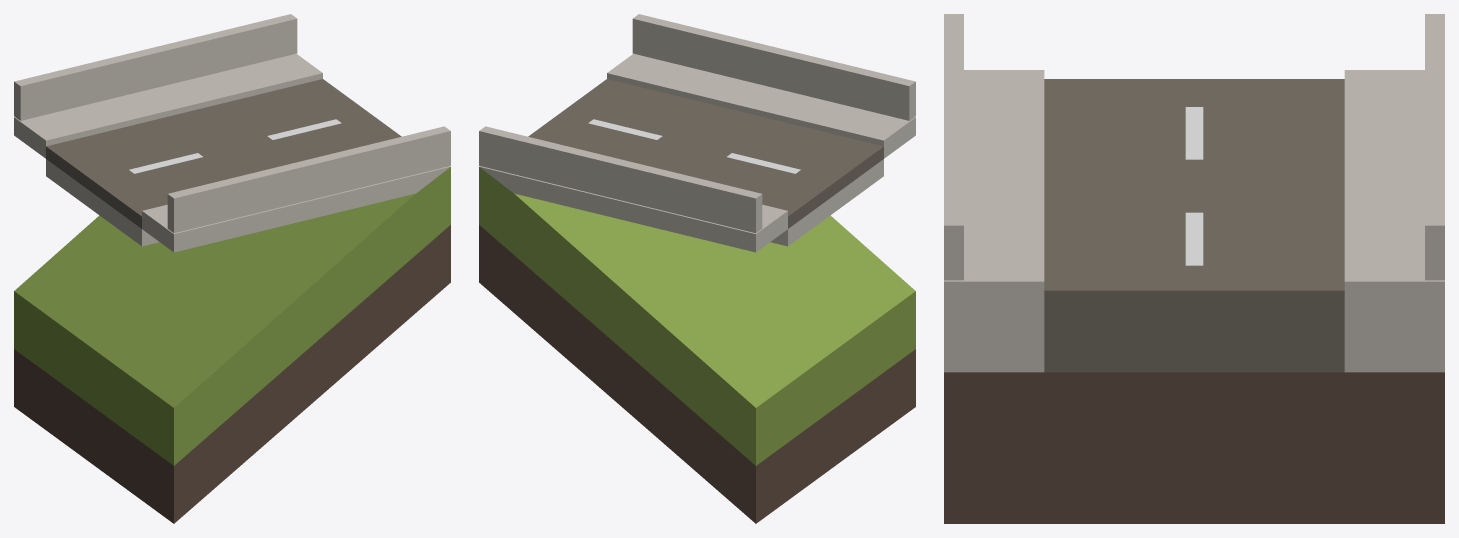
The model's file is road-tile-bridge-start_small.fbx.
3 renders of one model, left to right at view 1: azimuth 30°, elevation 25°; view 2: azimuth 150°, elevation 25°; view 3: azimuth 270°, elevation 25°, orthographic. The views are drawn at different scales.
Parts seen in each view (by area): view 1: road-tile-bridge-start_small; view 2: road-tile-bridge-start_small; view 3: road-tile-bridge-start_small.
Boxes of the visible parts, box(x1,y1,x2,y2) form: road-tile-bridge-start_small: box(14, 14, 450, 523); road-tile-bridge-start_small: box(479, 14, 915, 523); road-tile-bridge-start_small: box(944, 14, 1444, 523).
Bounding box in the file's own units: 1000 × 1123 × 1000.
